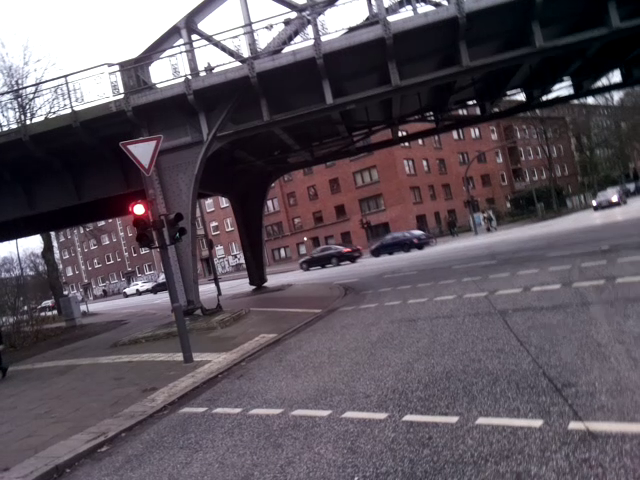car: (297, 236, 362, 275), (369, 222, 433, 260)
